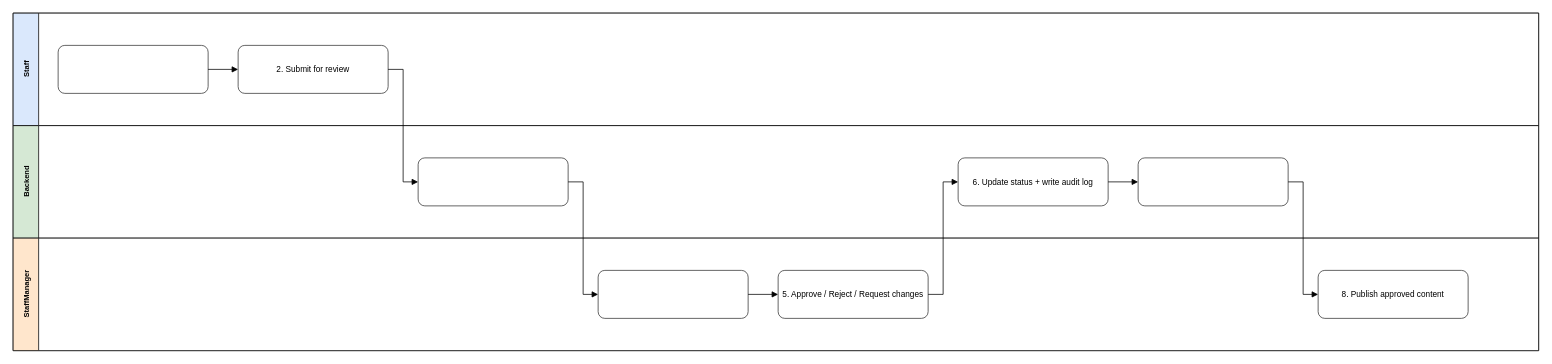
The diagram is 1552 pixels wide and 364 high, and some of its shapes have lost their labels. The shapes that lost their labels are listed below. From the top down, each one's centre as x and y in pixels, then its label:
the point at 132,69: 1. Create / edit content (draft)
the point at 492,181: 3. Set status = pending_review
the point at 1212,181: 7. Notify Staff of decision
the point at 672,294: 4. Open review queue
